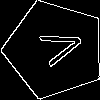V: (30, 24, 87, 71)
